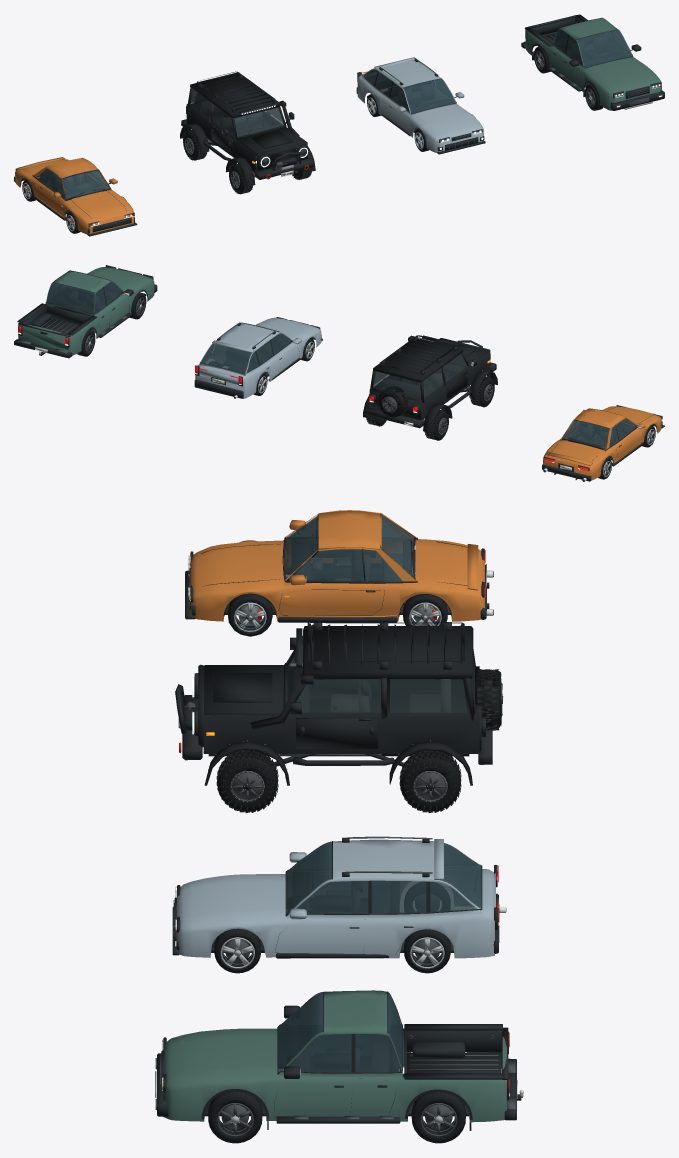
Rendered from parked_cars.glb.
3 views of the same model, one above another, from view 1: azimuth 30°, elevation 25°; view 2: azimuth 150°, elevation 25°; view 3: azimuth 270°, elevation 25° (orthographic). The views are drawn at different scales.
Parts seen in each view (by area): view 1: ParkedJeep, ParkedPickup, ParkedWagon, ParkedAster, ParkedJeepWheelRearL, ParkedJeepWheelFrontL; view 2: ParkedJeep, ParkedPickup, ParkedWagon, ParkedAster, ParkedJeepWheelFrontL, ParkedJeepWheelRearL; view 3: ParkedJeep, ParkedPickup, ParkedWagon, ParkedAster, ParkedJeepWheelRearR, ParkedJeepWheelFrontR, ParkedPickupWheelFrontR, ParkedPickupWheelRearR, ParkedWagonWheelFrontR, ParkedWagonWheelRearR, ParkedAsterWheelFrontR, ParkedAsterWheelRearR (+1 smaller).
Part boxes in pixels (bbox=[...]): ParkedJeep: bbox=[180, 71, 315, 187]; ParkedPickup: bbox=[521, 14, 664, 110]; ParkedWagon: bbox=[356, 57, 485, 154]; ParkedAster: bbox=[14, 157, 137, 236]; ParkedJeepWheelRearL: bbox=[183, 130, 207, 160]; ParkedJeepWheelFrontL: bbox=[229, 163, 252, 194]; ParkedJeep: bbox=[363, 335, 497, 433]; ParkedPickup: bbox=[14, 265, 157, 358]; ParkedWagon: bbox=[194, 317, 322, 398]; ParkedAster: bbox=[542, 405, 664, 481]; ParkedJeepWheelFrontL: bbox=[470, 376, 494, 407]; ParkedJeepWheelRearL: bbox=[424, 410, 448, 440]; ParkedJeep: bbox=[175, 622, 503, 785]; ParkedPickup: bbox=[155, 990, 523, 1130]; ParkedWagon: bbox=[172, 836, 506, 958]; ParkedAster: bbox=[185, 510, 493, 622]; ParkedJeepWheelRearR: bbox=[399, 750, 461, 812]; ParkedJeepWheelFrontR: bbox=[216, 750, 278, 812]; ParkedPickupWheelFrontR: bbox=[208, 1091, 262, 1143]; ParkedPickupWheelRearR: bbox=[411, 1092, 465, 1143]; ParkedWagonWheelFrontR: bbox=[214, 928, 260, 973]; ParkedWagonWheelRearR: bbox=[404, 929, 450, 973]; ParkedAsterWheelFrontR: bbox=[227, 594, 272, 636]; ParkedAsterWheelRearR: bbox=[403, 594, 447, 625].
Bounding box in the file's own units: 20.28 × 2.32 × 5.57.
